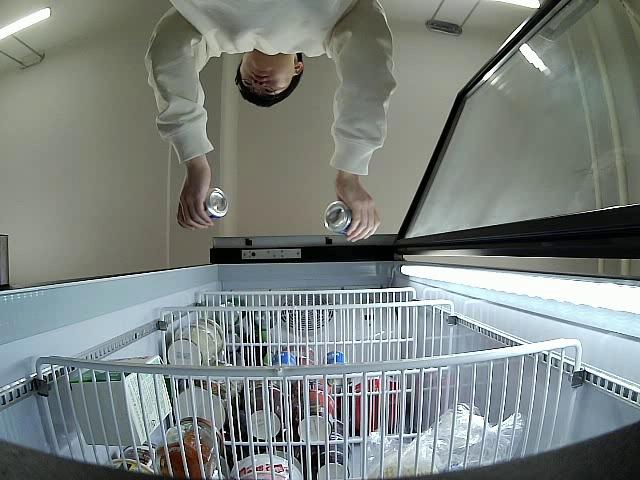00_hand: (333, 179, 380, 244), (177, 171, 213, 231)
13_pocariSweat: (325, 201, 355, 235), (201, 187, 228, 222)
